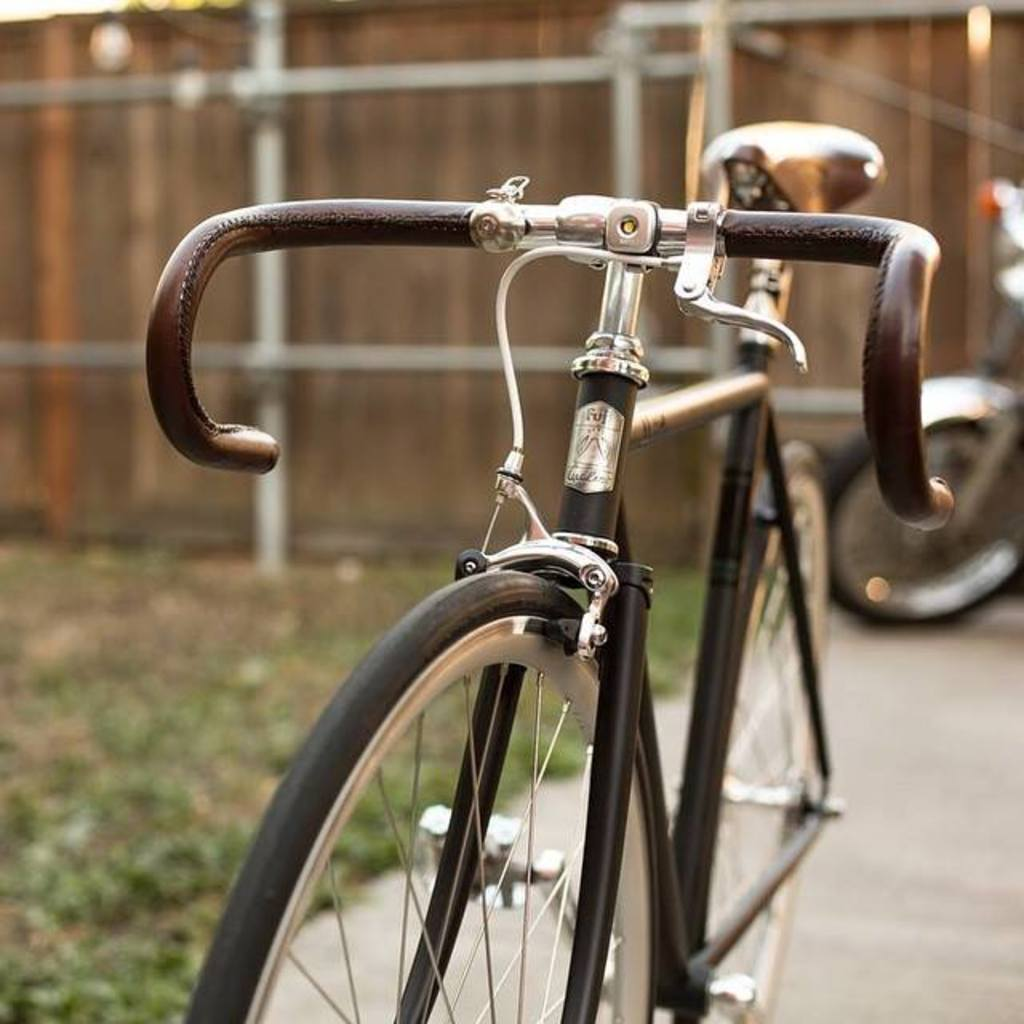Bike_toward: (135, 112, 945, 1001)
